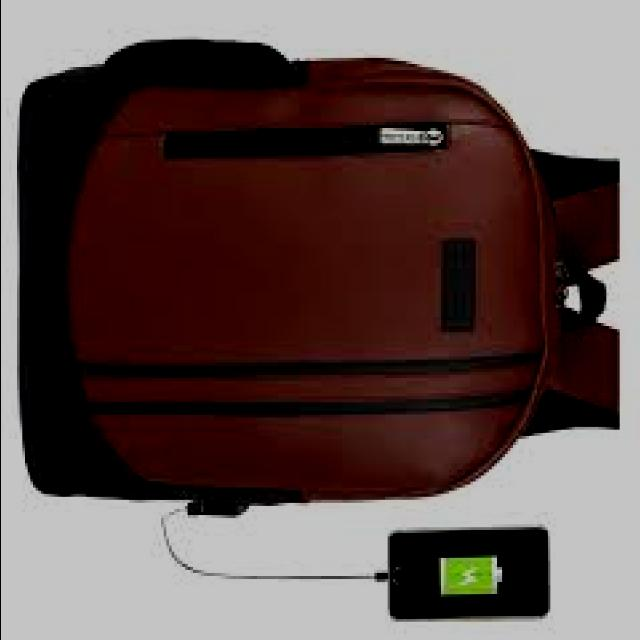backpack: (20, 38, 626, 520)
